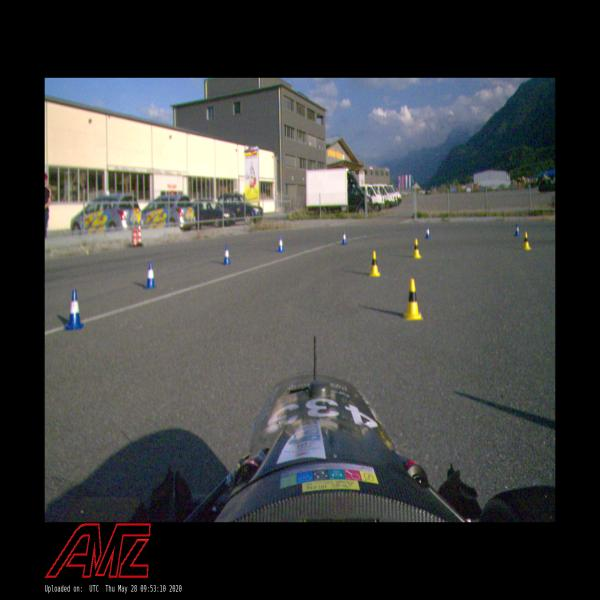blue_cone: (66, 291, 82, 330), (146, 262, 156, 288), (224, 245, 231, 264), (278, 236, 284, 252), (342, 231, 347, 245), (515, 225, 520, 236), (426, 226, 430, 239)
yellow_cone: (405, 278, 422, 318), (369, 251, 380, 276), (412, 238, 421, 258), (522, 232, 530, 250)
